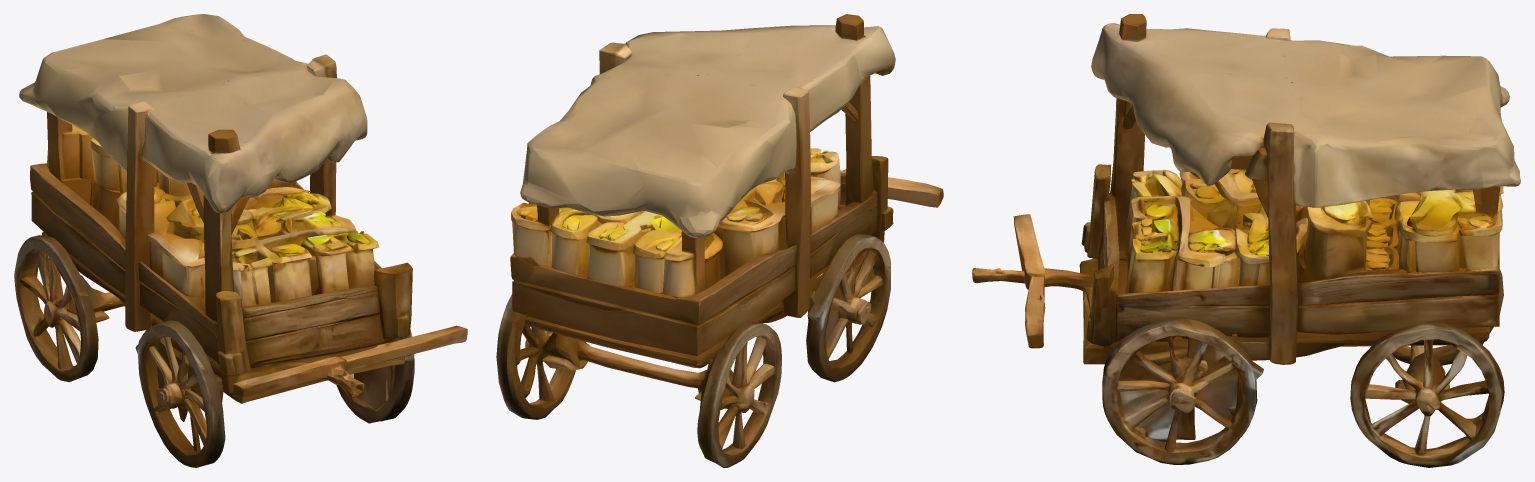
The picture shows the model from 3 angles, left to right: view 1: azimuth 30°, elevation 25°; view 2: azimuth 150°, elevation 25°; view 3: azimuth 270°, elevation 25°; orthographic projection. The views are drawn at different scales.
Visible parts, largest first — view 1: model; view 2: model; view 3: model.
Part boxes in pixels (<box>): model: <box>14,14,467,467</box>; model: <box>496,14,943,467</box>; model: <box>972,14,1520,467</box>.
Bounding box in the file's own units: 0.9799 × 1.36 × 1.89.
Materials: 1 (1 with a texture image).
